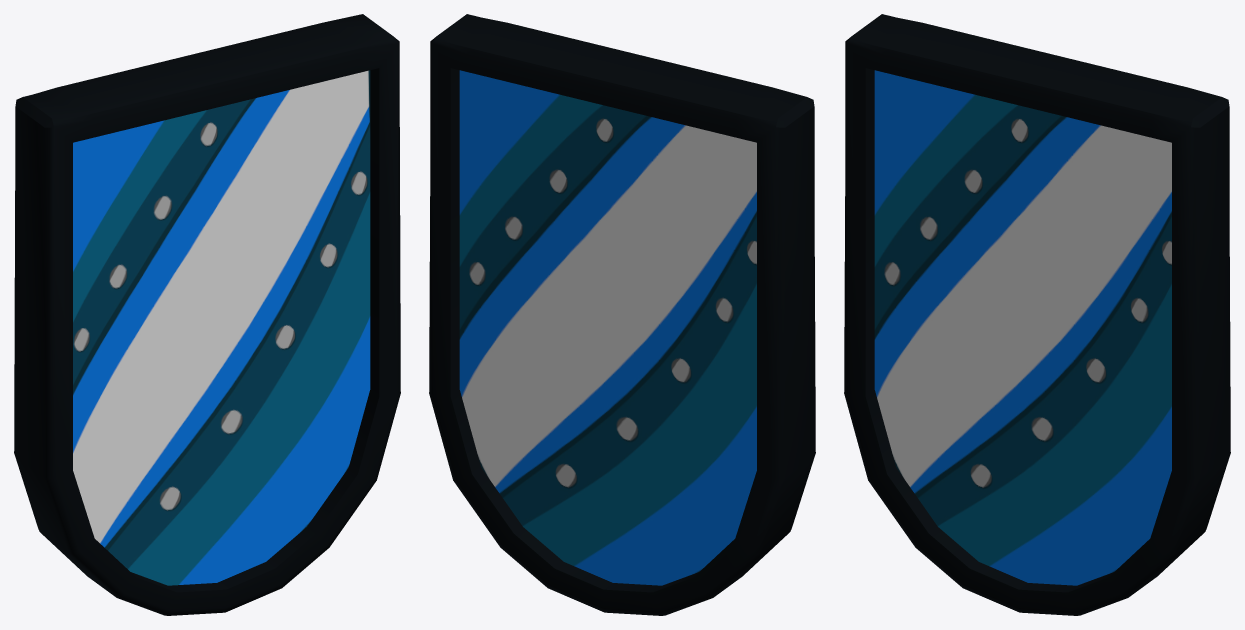
Rendered from Shield.FBX.
3 views of the same model, side by side, from view 1: azimuth 30°, elevation 25°; view 2: azimuth 150°, elevation 25°; view 3: azimuth 330°, elevation 25° (orthographic).
Parts seen in each view (by area): view 1: Shield Front, Box001; view 2: Shield Front, Box001; view 3: Shield Front, Box001.
Boxes of the visible parts, x1=… form: Shield Front: x1=73, y1=70, x2=370, y2=585; Box001: x1=14, y1=14, x2=400, y2=615; Shield Front: x1=459, y1=70, x2=756, y2=585; Box001: x1=429, y1=14, x2=815, y2=615; Shield Front: x1=874, y1=70, x2=1171, y2=585; Box001: x1=844, y1=14, x2=1230, y2=615.
Size of the model in its own units: 988 by 1424 by 182.
